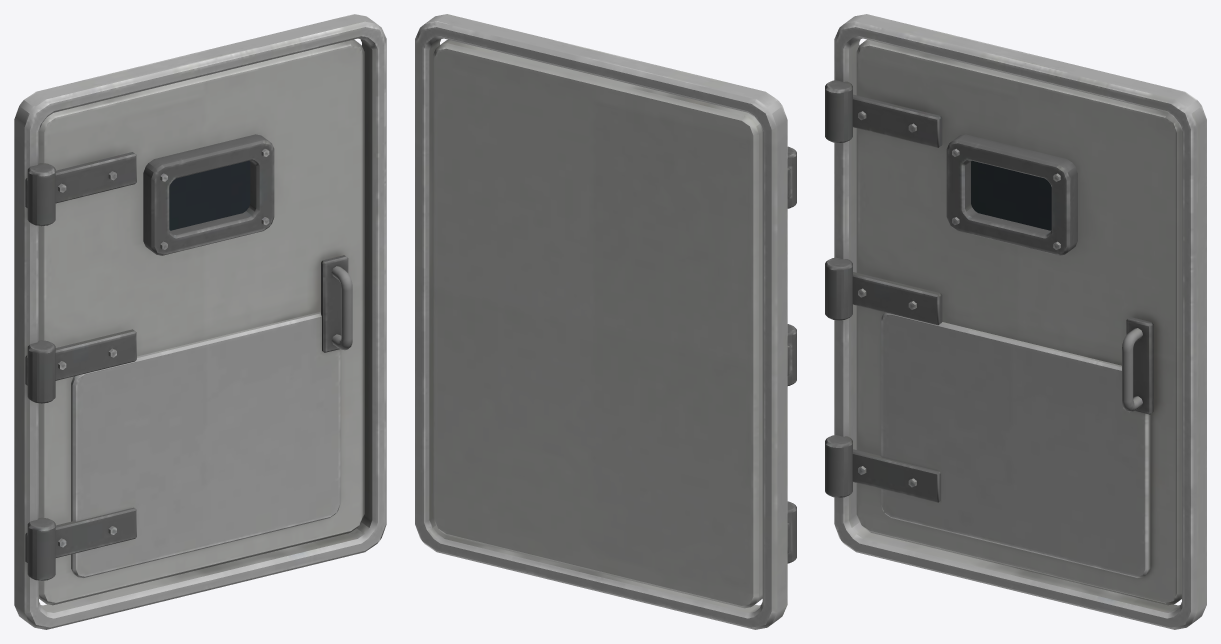
Rendered from vehicleDoor.glb.
3 views of the same model, side by side, from view 1: azimuth 30°, elevation 25°; view 2: azimuth 150°, elevation 25°; view 3: azimuth 330°, elevation 25° (orthographic).
Parts seen in each view (by area): view 1: vehicleDoor; view 2: vehicleDoor; view 3: vehicleDoor.
Boxes of the visible parts, x1=… form: vehicleDoor: x1=14, y1=14, x2=386, y2=629; vehicleDoor: x1=415, y1=14, x2=796, y2=629; vehicleDoor: x1=825, y1=14, x2=1206, y2=629.
Bounding box in the file's own units: 1 × 1.4 × 0.1441.
Materials: 1 (1 with a texture image).
